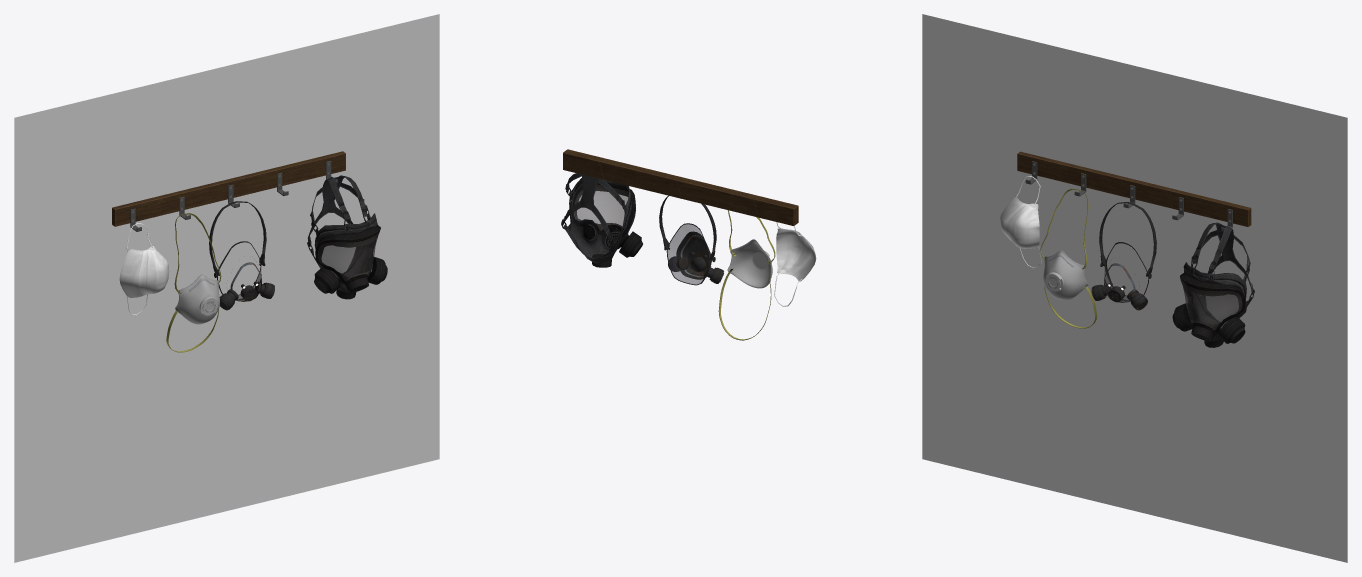
File: Masks.glb
The picture shows the model from 3 angles, left to right: view 1: azimuth 30°, elevation 25°; view 2: azimuth 150°, elevation 25°; view 3: azimuth 330°, elevation 25°; orthographic projection.
Parts seen in each view (by area): view 1: Plane, Object_2, Object_7, MedicalMask1:cord_MedicalMask1:medm_0, Cylinder_Facemask_0, Cylinder.002; view 2: Object_2, Object_7, Cylinder.002, Cylinder_Facemask_0, MedicalMask1:cord_MedicalMask1:medm_0; view 3: Plane, Object_2, Object_7, Cylinder_Facemask_0, MedicalMask1:cord_MedicalMask1:medm_0, Cylinder.002.
Boxes of the visible parts, left/top/right/bottom form: Plane: left=14, top=14, right=439, bottom=562; Object_2: left=307, top=175, right=387, bottom=299; Object_7: left=112, top=151, right=345, bottom=231; MedicalMask1:cord_MedicalMask1:medm_0: left=119, top=223, right=169, bottom=315; Cylinder_Facemask_0: left=166, top=213, right=221, bottom=352; Cylinder.002: left=209, top=201, right=274, bottom=310; Object_2: left=561, top=173, right=642, bottom=267; Object_7: left=563, top=149, right=798, bottom=225; Cylinder.002: left=659, top=195, right=723, bottom=285; Cylinder_Facemask_0: left=718, top=210, right=775, bottom=340; MedicalMask1:cord_MedicalMask1:medm_0: left=774, top=222, right=816, bottom=306; Plane: left=922, top=14, right=1347, bottom=562; Object_2: left=1172, top=222, right=1254, bottom=347; Object_7: left=1017, top=151, right=1251, bottom=231; Cylinder_Facemask_0: left=1040, top=188, right=1096, bottom=328; MedicalMask1:cord_MedicalMask1:medm_0: left=999, top=176, right=1041, bottom=267; Cylinder.002: left=1091, top=202, right=1156, bottom=310.
Size of the model in its own units: 7.93 by 7.93 by 1.24.
Materials: 12 (10 with a texture image).
